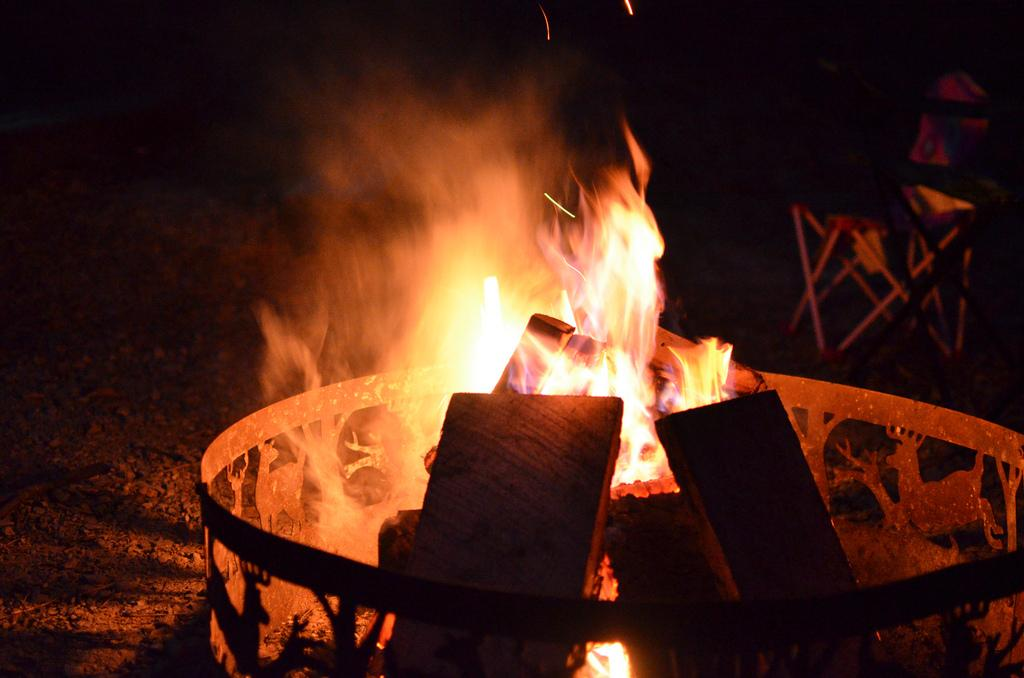fire: (563, 183, 662, 333), (560, 348, 732, 397), (440, 283, 515, 378)
